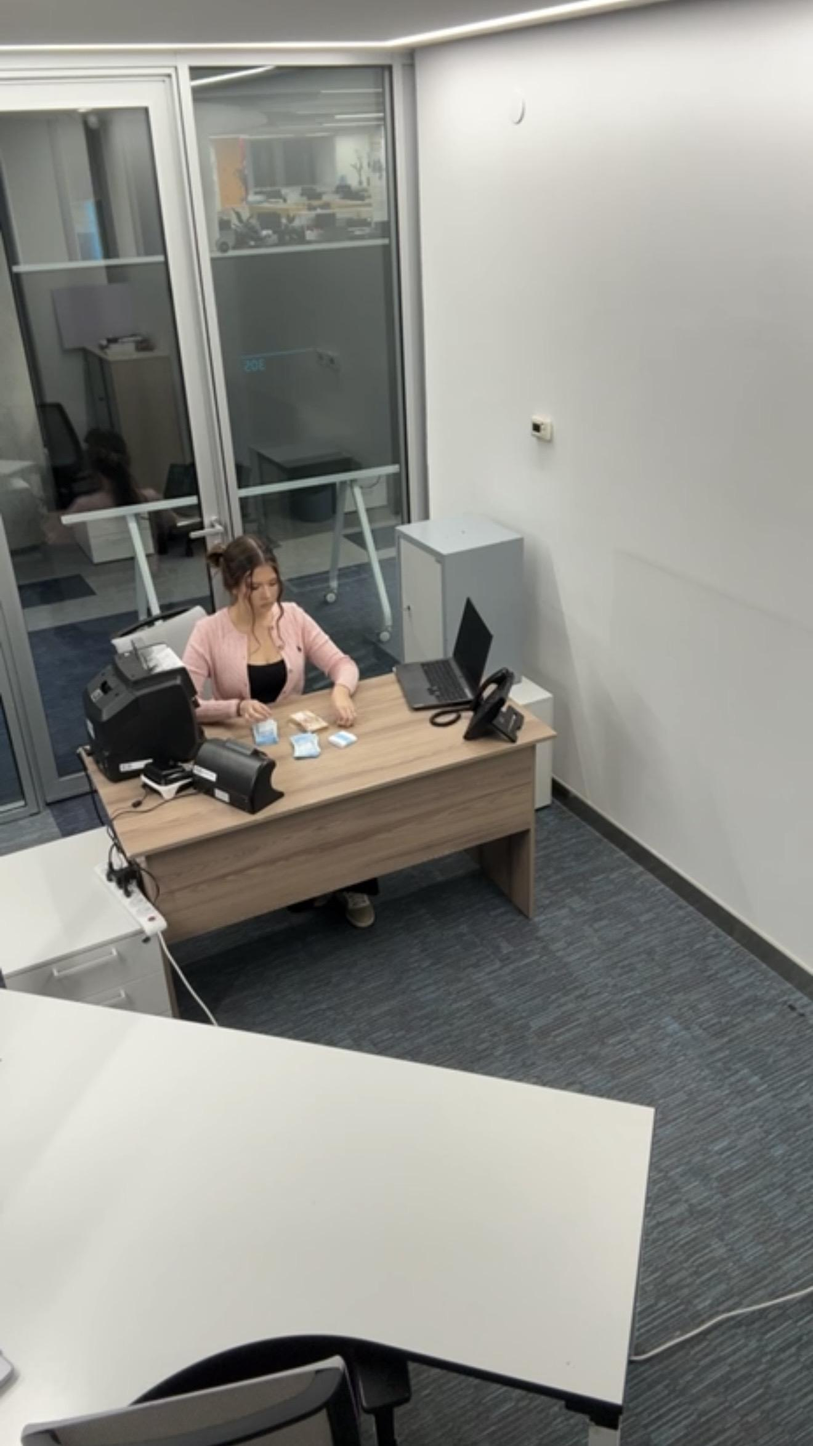cash_stack: (250, 704, 333, 764)
counter: (88, 641, 199, 760)
key_in: (398, 589, 431, 628)
uv_lamp: (183, 735, 271, 807)
